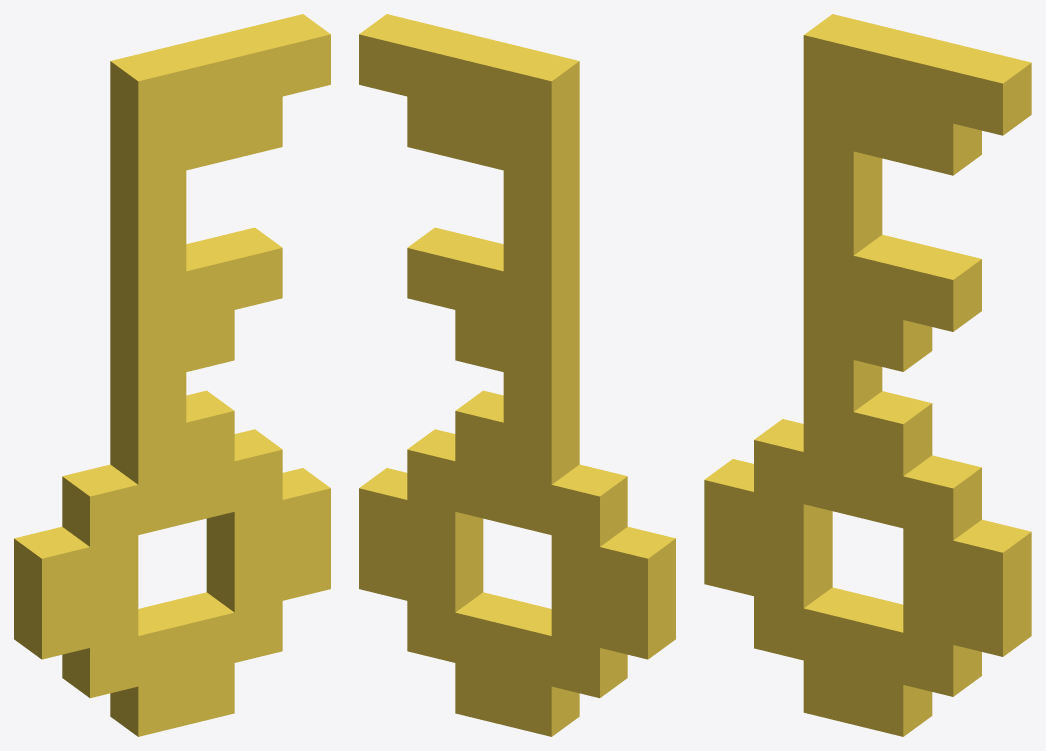
File: Key 1.glb
3 views of the same model, side by side, from view 1: azimuth 30°, elevation 25°; view 2: azimuth 150°, elevation 25°; view 3: azimuth 330°, elevation 25° (orthographic). The views are drawn at different scales.
Visible parts, largest first — view 1: generated(Clone); view 2: generated(Clone); view 3: generated(Clone).
Boxes of the visible parts, box(x1,y1,x2,y2) form: generated(Clone): box(14, 14, 330, 736); generated(Clone): box(359, 14, 675, 736); generated(Clone): box(704, 14, 1031, 736).
Bounding box in the file's own units: 6 × 13 × 1.
1 material, 1 textured.
